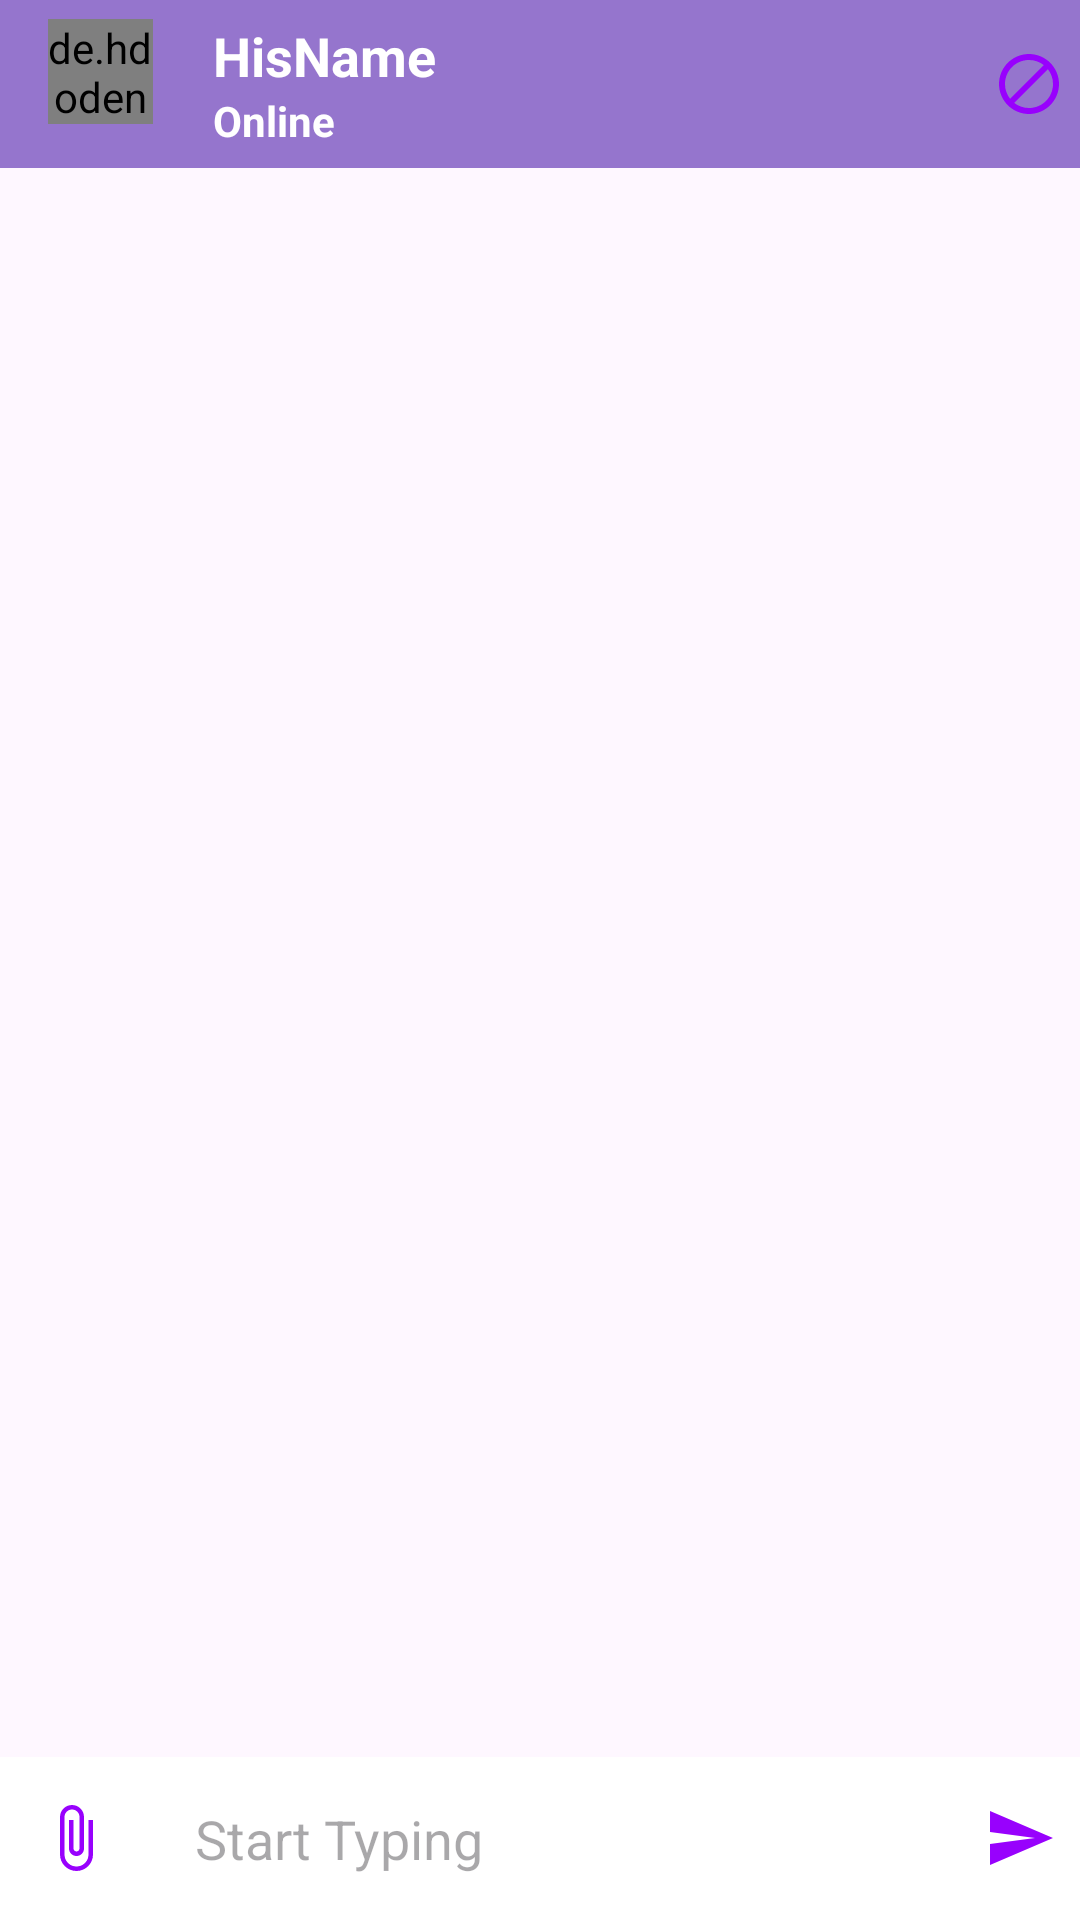

Icon bounding boxes for this 1080×1920 phone screenshot, format bbox(x1, y1, x2, y2):
attach file: bbox(60, 1805, 93, 1871)
block: bbox(999, 54, 1059, 114)
send: bbox(990, 1811, 1053, 1865)
